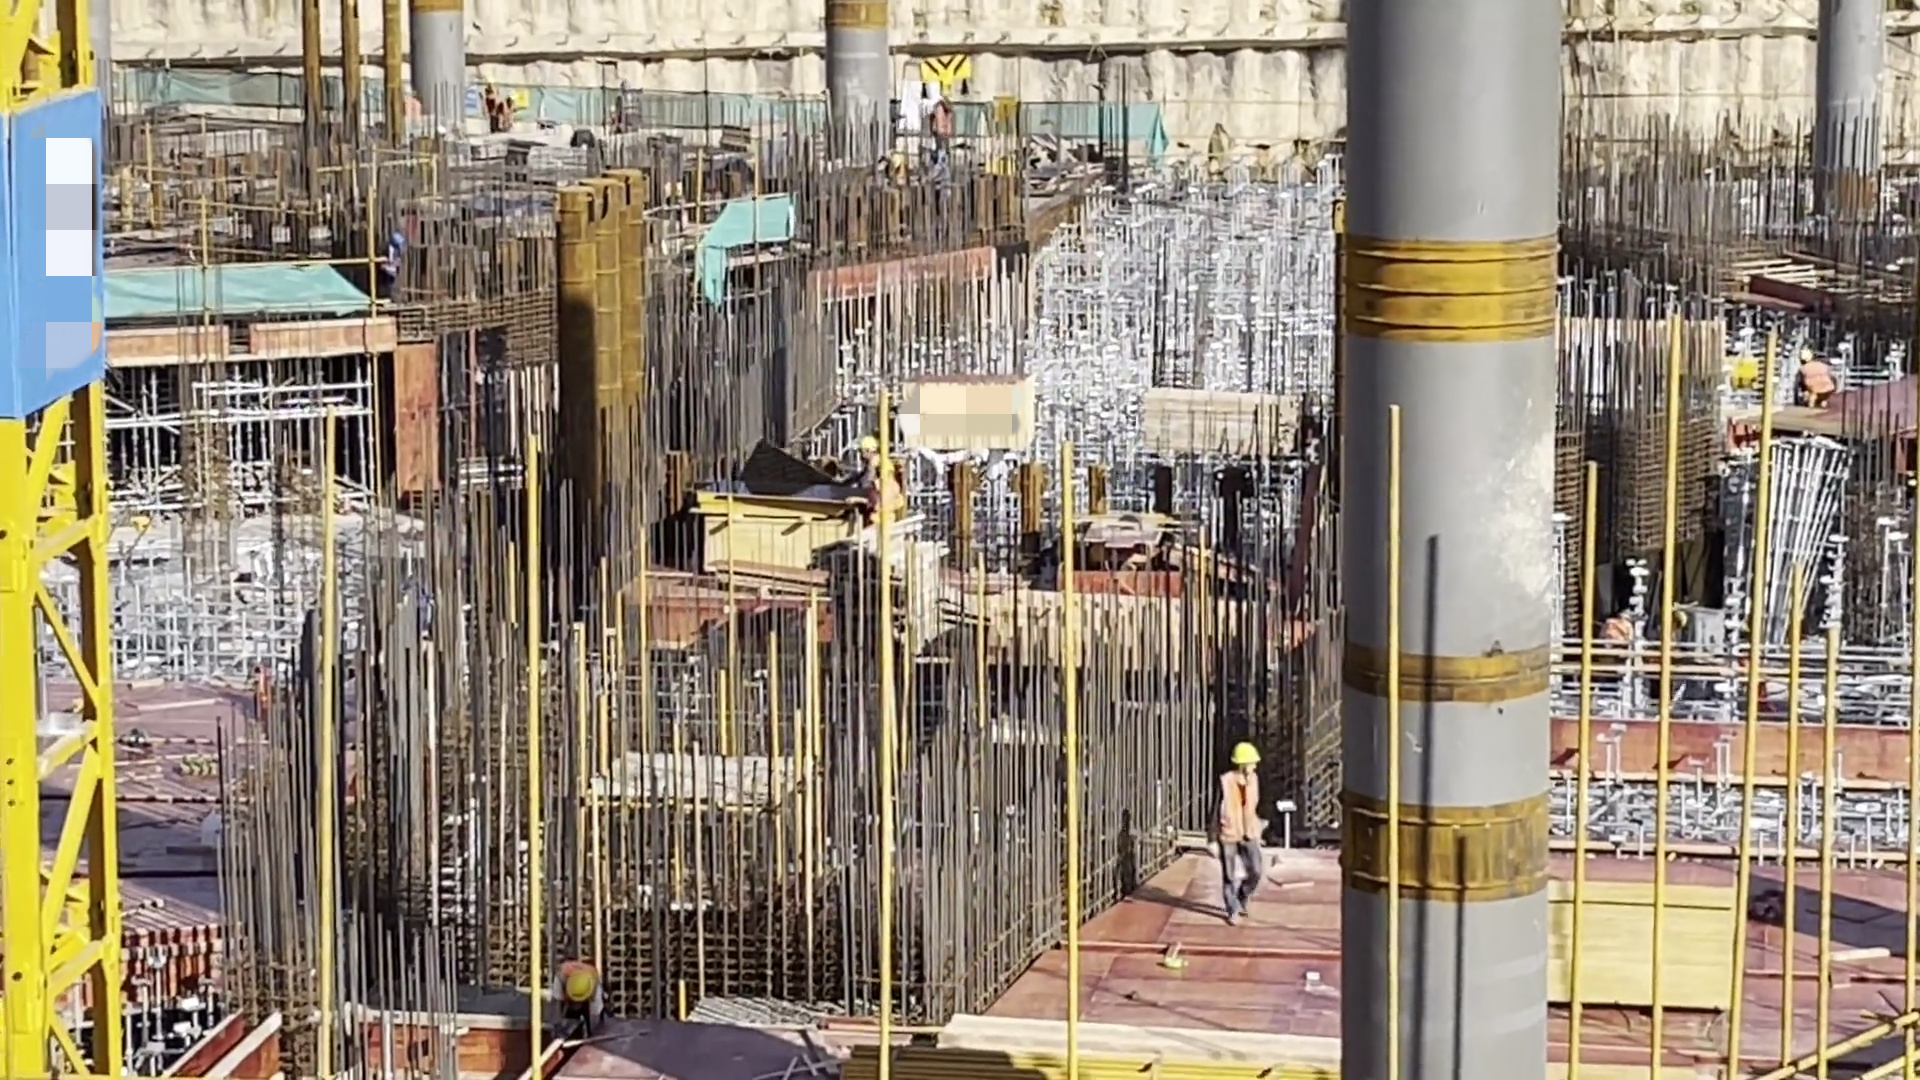board: (1538, 847, 1743, 1034), (691, 488, 859, 589)
helmet: (560, 969, 598, 1006), (1228, 741, 1262, 780), (1671, 607, 1696, 633), (858, 438, 882, 458), (386, 231, 407, 249), (1796, 347, 1816, 365)
hook: (911, 48, 990, 116)
person: (1211, 737, 1283, 931), (851, 423, 916, 538), (551, 954, 609, 1044), (1795, 349, 1837, 412), (373, 230, 408, 295), (1600, 606, 1641, 656), (930, 102, 962, 161), (493, 94, 523, 148), (481, 76, 505, 116)
vest: (1217, 772, 1270, 854), (1802, 361, 1835, 403), (1603, 617, 1634, 646)
wood: (1134, 392, 1300, 473)
